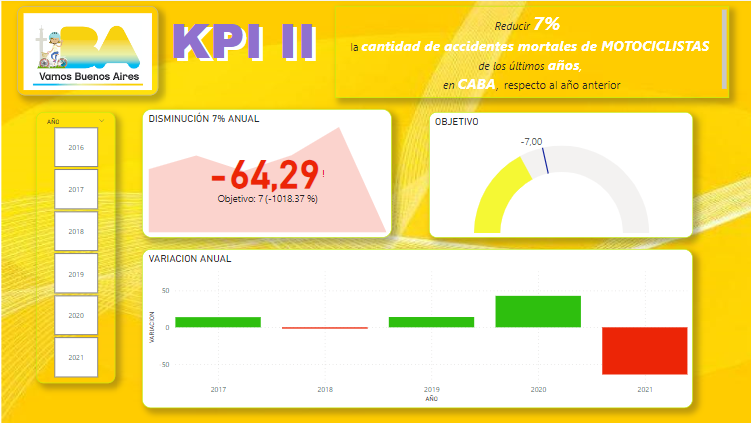

What the dashboard file says about the page in this screenshot:
{"tool":"powerbi","page":{"name":"KPI_2","canvas":[1280,720],"ordinal":4},"visuals":[{"type":"gauge","title":"OBJETIVO","fields":{"Y":["Sum(kpi_3_t.VARIACION)"]},"box":[707,191.5,462.2,211.7],"z":1000},{"type":"textbox","box":[568.7,13.4,661,154.3],"z":2000},{"type":"image","box":[35.3,13.5,237.2,149.7],"z":3000},{"type":"textbox","box":[293.6,13.4,275.1,149.3],"z":4000},{"type":"textbox","box":[286.9,8.4,268.4,149.3],"z":5000},{"type":"kpi","title":"DISMINUCIÓN 7% ANUAL","fields":{"Indicator":["Sum(kpi_2.VARIACION)"],"TrendLine":["kpi_2.AÑO"],"Goal":["kpi_2.kpi2"]},"box":[244.8,187.2,445,217.4],"z":6000},{"type":"slicer","fields":{"Values":["kpi_2.AÑO"]},"box":[67.1,191.2,132.5,454.6],"z":7000},{"type":"clusteredColumnChart","title":"VARIACION ANUAL","fields":{"Category":["kpi_2.AÑO"],"Y":["Sum(kpi_2.VARIACION)"]},"box":[244.9,421.1,924.4,266.7],"z":8000},{"type":"image","title":"KPI_3","box":[1132.4,614,147.6,105.7],"z":9000}]}

Visuals, with their boxes in screenshot pixels (x1, y1, x2, y2), scaled from the page's 1280x720 canvas onto the 751x423 screenshot:
"OBJETIVO" gauge: {"x1": 415, "y1": 113, "x2": 686, "y2": 237}
textbox: {"x1": 334, "y1": 8, "x2": 721, "y2": 99}
image: {"x1": 21, "y1": 8, "x2": 160, "y2": 96}
textbox: {"x1": 172, "y1": 8, "x2": 334, "y2": 96}
textbox: {"x1": 168, "y1": 5, "x2": 326, "y2": 93}
"DISMINUCIÓN 7% ANUAL" kpi: {"x1": 144, "y1": 110, "x2": 405, "y2": 238}
slicer - kpi_2.AÑO: {"x1": 39, "y1": 112, "x2": 117, "y2": 379}
"VARIACION ANUAL" clusteredColumnChart: {"x1": 144, "y1": 247, "x2": 686, "y2": 404}
"KPI_3" image: {"x1": 664, "y1": 361, "x2": 750, "y2": 422}
